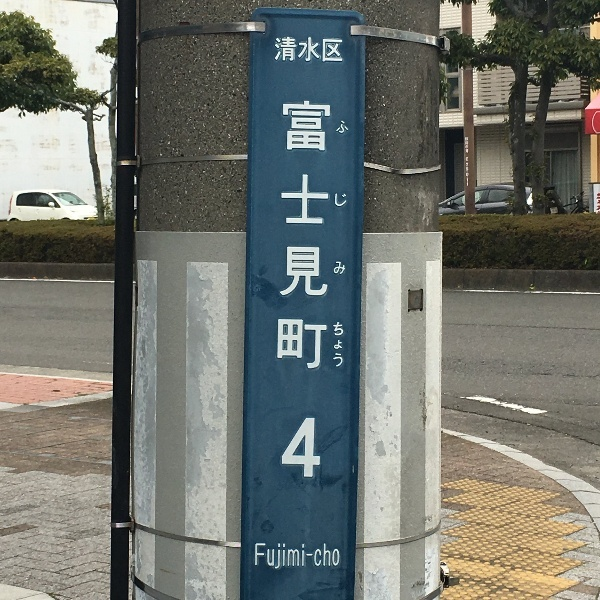text: (289, 100, 304, 479), (305, 100, 320, 479), (321, 100, 331, 479), (337, 120, 352, 368), (284, 100, 288, 479), (466, 157, 480, 186), (257, 543, 272, 570), (273, 543, 288, 570), (289, 543, 304, 570), (305, 543, 320, 570), (321, 543, 336, 570), (289, 36, 304, 62), (305, 36, 320, 62), (321, 36, 336, 62), (275, 36, 288, 62), (465, 137, 480, 153), (337, 36, 343, 62), (596, 193, 600, 216), (337, 543, 340, 570)
